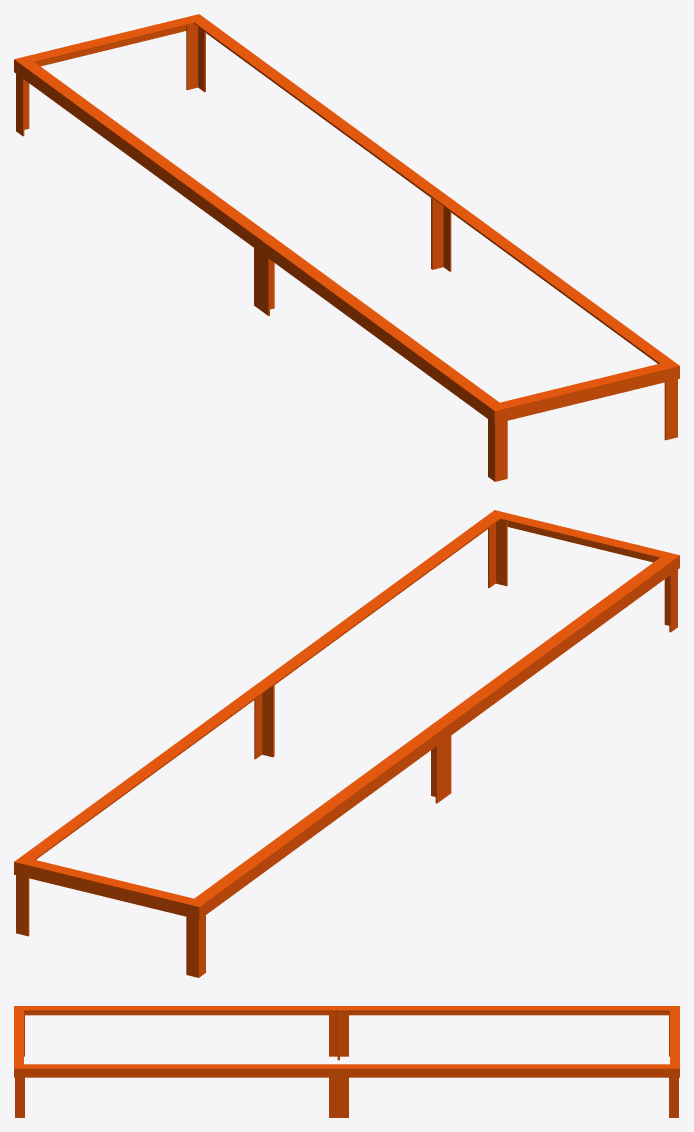
Rendered from opora.FBX.
3 renders of one model, top to bottom at view 1: azimuth 30°, elevation 25°; view 2: azimuth 150°, elevation 25°; view 3: azimuth 270°, elevation 25°, orthographic. The views are drawn at different scales.
Parts seen in each view (by area): view 1: Snarugi12; view 2: Snarugi12; view 3: Snarugi12.
Part boxes in pixels (bbox=[...]): Snarugi12: bbox=[14, 14, 679, 481]; Snarugi12: bbox=[14, 510, 679, 977]; Snarugi12: bbox=[14, 1006, 679, 1117].
Size of the model in its own units: 1000 by 370 by 4491.
